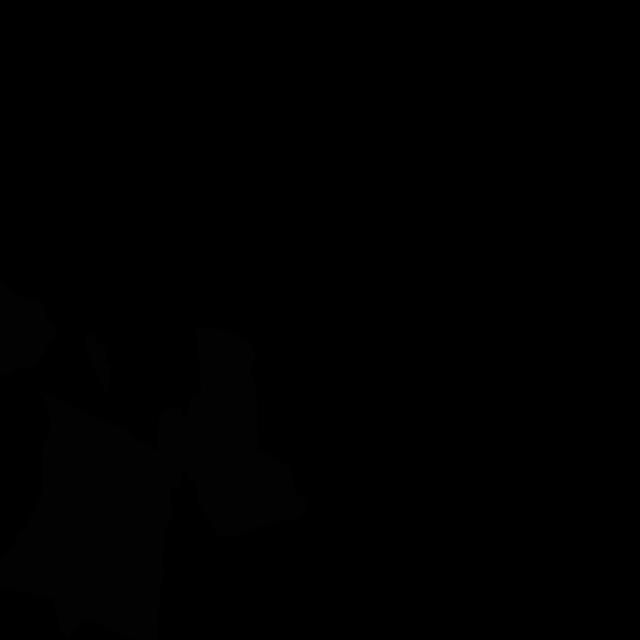cardboard: (0, 391, 174, 640), (157, 328, 306, 540), (0, 281, 58, 377), (85, 333, 111, 392)
